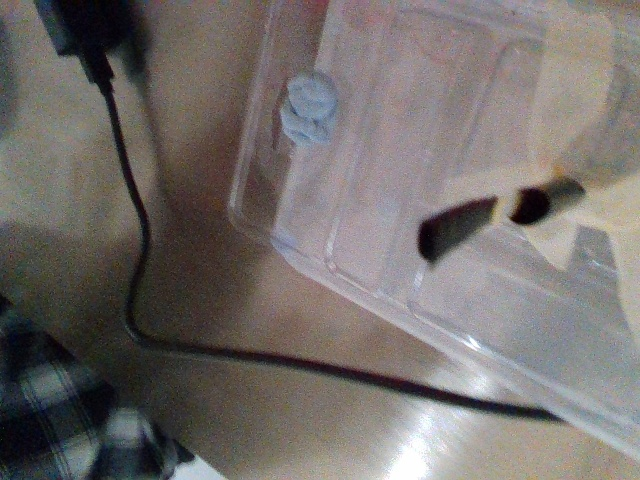test_strip: (416, 190, 523, 272)
